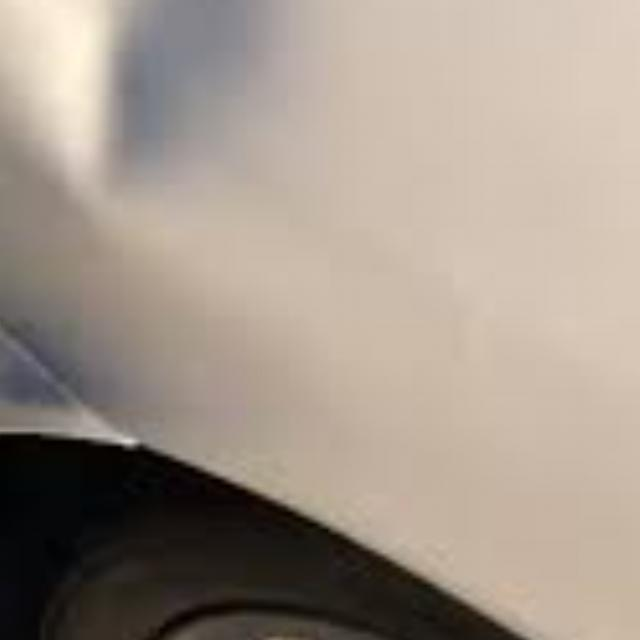dents: (23, 5, 277, 237)
